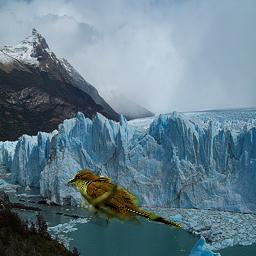Cuckoo: (67, 169, 183, 229)
